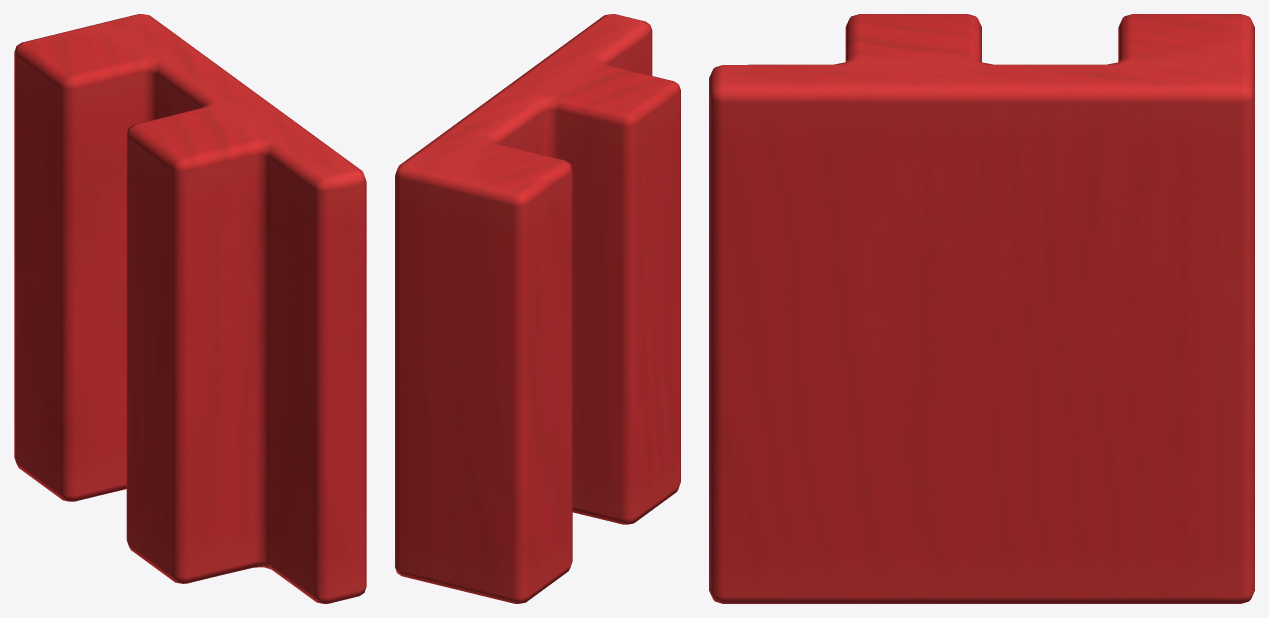
File: Combined_Block_01.fbx
3 views of the same model, side by side, from view 1: azimuth 30°, elevation 25°; view 2: azimuth 150°, elevation 25°; view 3: azimuth 270°, elevation 25° (orthographic). The views are drawn at different scales.
Visible parts, largest first — view 1: Combined_Block; view 2: Combined_Block; view 3: Combined_Block.
Boxes of the visible parts, left/top/right/bottom form: Combined_Block: left=14, top=14, right=366, bottom=603; Combined_Block: left=395, top=14, right=680, bottom=603; Combined_Block: left=709, top=14, right=1254, bottom=603.
Bounding box in the file's own units: 0.3531 × 1.05 × 1.
1 material, 1 textured.
